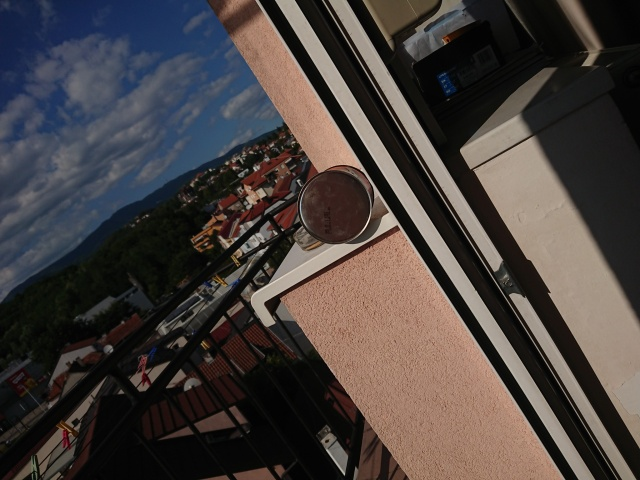Nescafe Classic 225g: (293, 161, 377, 247)
